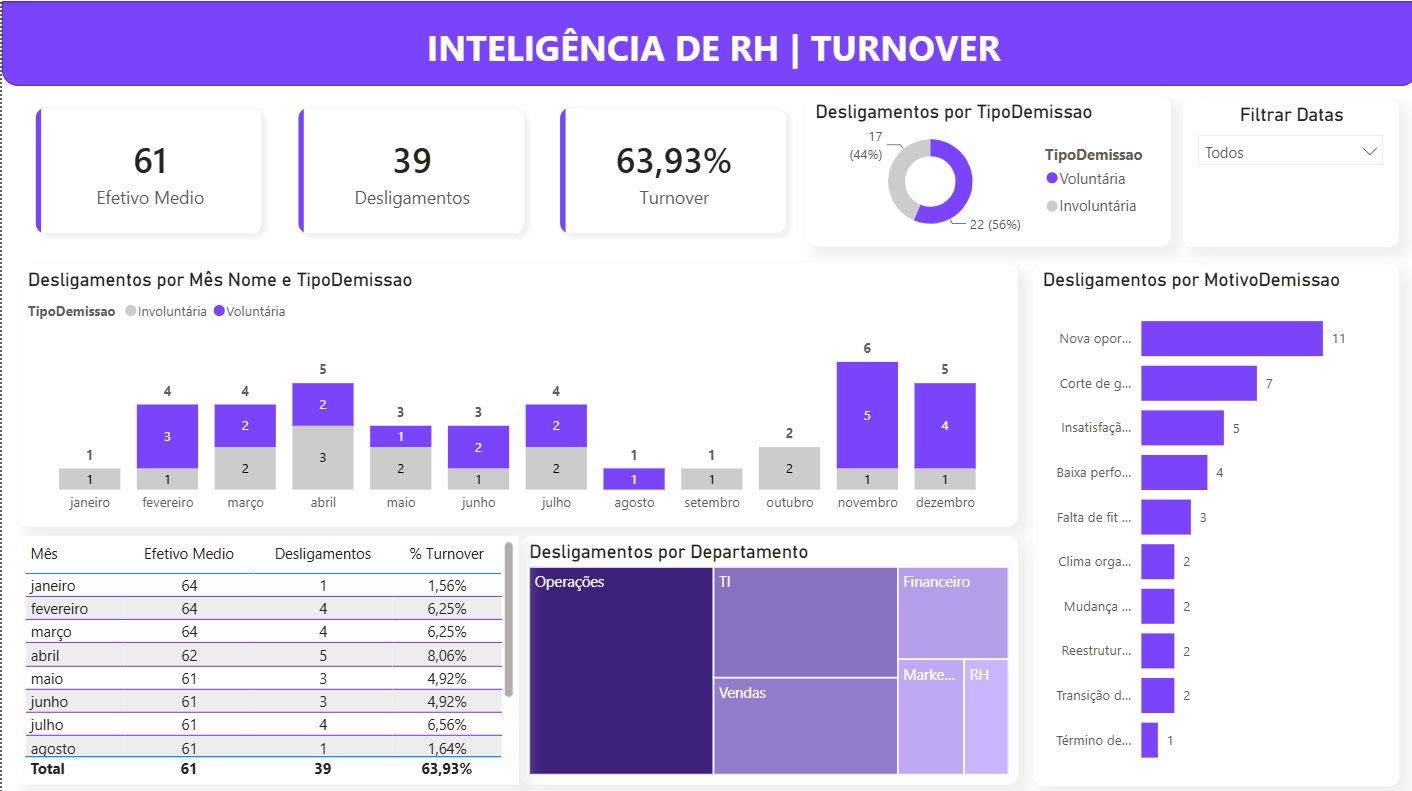

This screenshot's page, from the dashboard's own definition file:
{"tool":"powerbi","page":{"name":"Página 1","canvas":[1280,720],"ordinal":0},"visuals":[{"type":"shape","box":[0,0,1280.3,76.8],"z":0},{"type":"textbox","box":[0,15.1,1280.3,71.4],"z":1000},{"type":"cardVisual","fields":{"Data":["_Medidas.Efetivo Medio","_Medidas.Desligamentos","_Medidas.% Turnover"]},"box":[13.7,79.6,713.6,149.6],"z":2000},{"type":"donutChart","fields":{"Y":["_Medidas.Desligamentos"],"Category":["fMovimentacoes.TipoDemissao"]},"box":[727.3,86.4,330.7,135.8],"z":3000},{"type":"columnChart","fields":{"Y":["_Medidas.Desligamentos"],"Category":["dCalendario.Mês Nome"],"Series":["fMovimentacoes.TipoDemissao"]},"box":[15.1,237.4,904.3,238.8],"z":4000},{"type":"clusteredBarChart","fields":{"Y":["_Medidas.Desligamentos"],"Category":["fMovimentacoes.MotivoDemissao"]},"box":[932.9,237,330.9,472.9],"z":5000},{"type":"treemap","fields":{"Values":["_Medidas.Desligamentos"],"Group":["fMovimentacoes.Departamento"]},"box":[467.9,484.4,451.5,225],"z":6000},{"type":"tableEx","fields":{"Values":["dCalendario.Mês Nome","_Medidas.Efetivo Medio","_Medidas.Desligamentos","_Medidas.% Turnover"]},"box":[15.1,484.4,452.8,225],"z":7000},{"type":"slicer","title":"Filtrar Datas","fields":{"Values":["dCalendario.Ano","dCalendario.Mês Nome"]},"box":[1069,87.8,194.9,134.5],"z":7001}]}

Visuals, with their boxes in screenshot pixels (x1, y1, x2, y2), scaled from the page's 1280x720 canvas onto the 1412x791 screenshot:
shape: bbox=[0, 0, 1411, 84]
textbox: bbox=[0, 17, 1411, 95]
cardVisual - _Medidas.Efetivo Medio x _Medidas.Desligamentos: bbox=[15, 87, 802, 252]
donutChart - _Medidas.Desligamentos x fMovimentacoes.TipoDemissao: bbox=[802, 95, 1167, 244]
columnChart - _Medidas.Desligamentos x dCalendario.Mês Nome: bbox=[17, 261, 1014, 523]
clusteredBarChart - _Medidas.Desligamentos x fMovimentacoes.MotivoDemissao: bbox=[1029, 260, 1394, 780]
treemap - _Medidas.Desligamentos x fMovimentacoes.Departamento: bbox=[516, 532, 1014, 779]
tableEx - dCalendario.Mês Nome x _Medidas.Efetivo Medio: bbox=[17, 532, 516, 779]
"Filtrar Datas" slicer: bbox=[1179, 96, 1394, 244]
